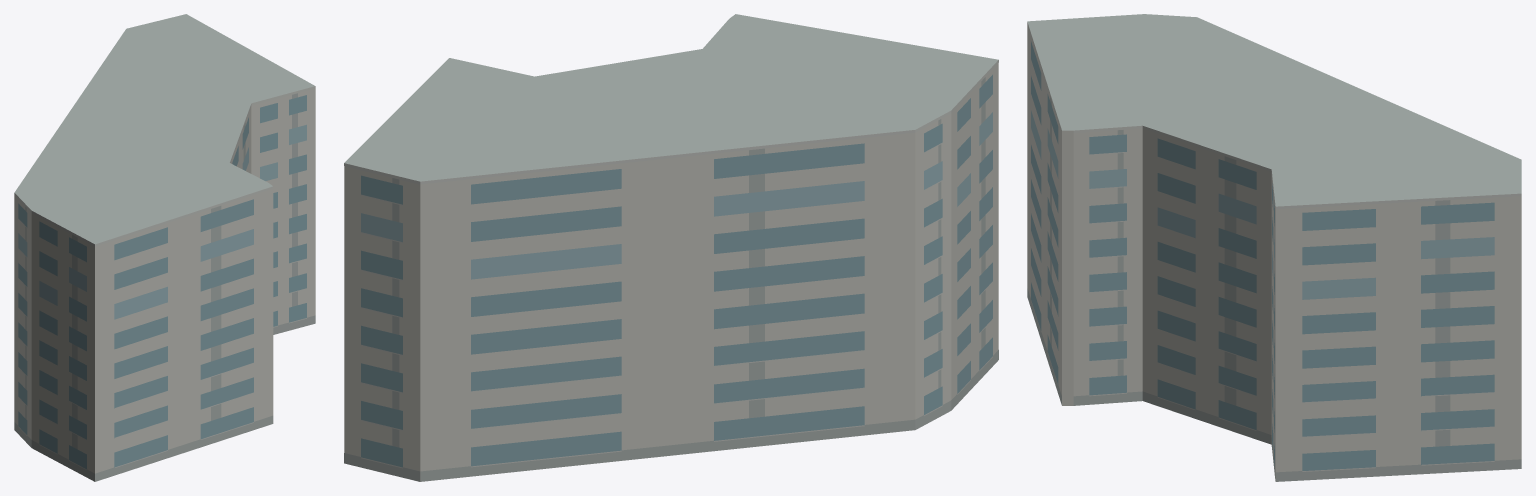
File: survey-upis-32674949.glb
The picture shows the model from 3 angles, left to right: view 1: azimuth 30°, elevation 25°; view 2: azimuth 150°, elevation 25°; view 3: azimuth 270°, elevation 25°; orthographic projection. The views are drawn at different scales.
Parts seen in each view (by area): view 1: survey-upis-32674949.tmp; view 2: survey-upis-32674949.tmp; view 3: survey-upis-32674949.tmp.
Part boxes in pixels (box(x1,y1,x2,y2)): survey-upis-32674949.tmp: box(14, 14, 315, 481); survey-upis-32674949.tmp: box(344, 14, 998, 481); survey-upis-32674949.tmp: box(1027, 14, 1521, 481).
Bounding box in the file's own units: 36.61 × 24.4 × 39.72.
